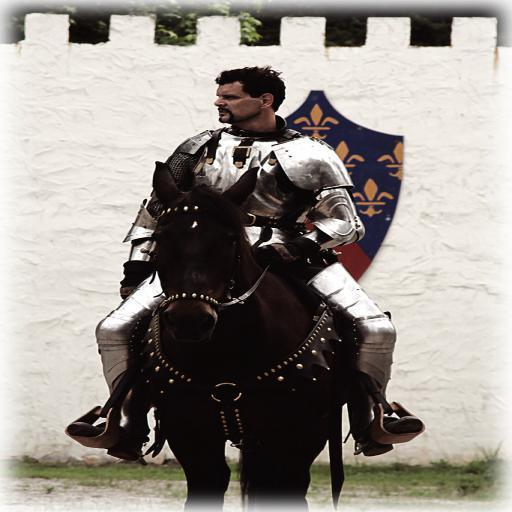horse: (130, 158, 358, 512)
